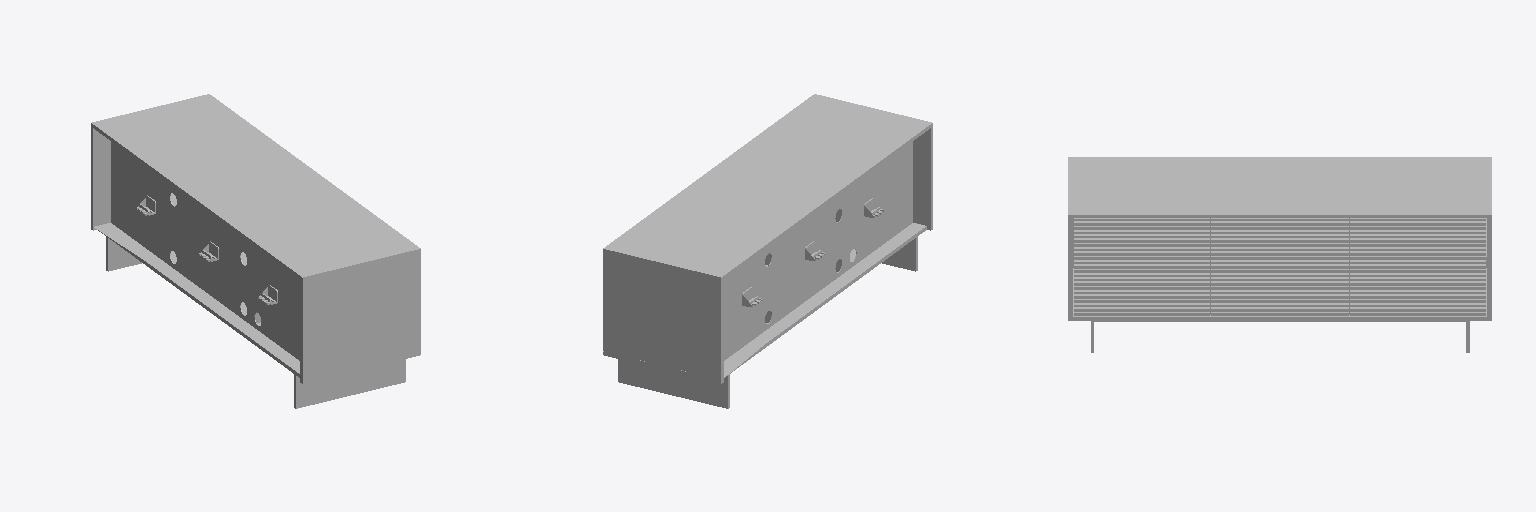
File: tvstand.obj
3 renders of one model, left to right at view 1: azimuth 30°, elevation 25°; view 2: azimuth 150°, elevation 25°; view 3: azimuth 270°, elevation 25°, orthographic.
Visible parts, largest first — view 1: Mesh47 top_shelf1 TV_stand1 Model, Mesh49 back_wall1 TV_stand1 Model, Mesh61 side_wall_2_2 TV_stand1 Model, Mesh48 top_shelf_1_1 TV_stand1 Model, Mesh59 left_leg1 leg_left1 TV_stand1 Model, Mesh52 side_wall_2_1 TV_stand1 Model, Mesh60 left_leg2 leg_left2 TV_stand1 Model; view 2: Mesh47 top_shelf1 TV_stand1 Model, Mesh49 back_wall1 TV_stand1 Model, Mesh52 side_wall_2_1 TV_stand1 Model, Mesh48 top_shelf_1_1 TV_stand1 Model, Mesh60 left_leg2 leg_left2 TV_stand1 Model, Mesh61 side_wall_2_2 TV_stand1 Model, Mesh59 left_leg1 leg_left1 TV_stand1 Model; view 3: Mesh47 top_shelf1 TV_stand1 Model, Mesh48 top_shelf_1_1 TV_stand1 Model, Mesh3 ajto_lec3 door_left_1_1 TV_stand1 Model, Mesh6 ajto_lec6 door_left_1_1 TV_stand1 Model, Mesh16 ajto_lec16 door_left_1_1 TV_stand1 Model, Mesh17 ajto_lec17 door_left_1_1 TV_stand1 Model, Mesh19 ajto_lec19 door_left_1_1 TV_stand1 Model, Mesh20 ajto_lec20 door_left_1_1 TV_stand1 Model, Mesh23 ajto_lec23 door_left_1_1 TV_stand1 Model, Mesh26 ajto_lec26 door_left1 TV_stand1 Model, Mesh29 ajto_lec29 door_left1 TV_stand1 Model, Mesh39 ajto_lec39 door_left1 TV_stand1 Model (+28 smaller).
Boxes of the visible parts, box(x1,y1,x2,y2) form: Mesh47 top_shelf1 TV_stand1 Model: box(91, 94, 420, 280); Mesh49 back_wall1 TV_stand1 Model: box(111, 142, 299, 360); Mesh61 side_wall_2_2 TV_stand1 Model: box(300, 253, 420, 379); Mesh48 top_shelf_1_1 TV_stand1 Model: box(91, 223, 420, 383); Mesh59 left_leg1 leg_left1 TV_stand1 Model: box(294, 359, 405, 408); Mesh52 side_wall_2_1 TV_stand1 Model: box(91, 127, 110, 226); Mesh60 left_leg2 leg_left2 TV_stand1 Model: box(106, 237, 141, 271); Mesh47 top_shelf1 TV_stand1 Model: box(603, 94, 932, 280); Mesh49 back_wall1 TV_stand1 Model: box(724, 142, 912, 360); Mesh52 side_wall_2_1 TV_stand1 Model: box(603, 253, 723, 379); Mesh48 top_shelf_1_1 TV_stand1 Model: box(603, 223, 932, 383); Mesh60 left_leg2 leg_left2 TV_stand1 Model: box(618, 359, 729, 408); Mesh61 side_wall_2_2 TV_stand1 Model: box(913, 127, 932, 226); Mesh59 left_leg1 leg_left1 TV_stand1 Model: box(882, 237, 917, 271); Mesh47 top_shelf1 TV_stand1 Model: box(1068, 157, 1491, 217); Mesh48 top_shelf_1_1 TV_stand1 Model: box(1068, 268, 1491, 320); Mesh3 ajto_lec3 door_left_1_1 TV_stand1 Model: box(1211, 281, 1348, 285); Mesh6 ajto_lec6 door_left_1_1 TV_stand1 Model: box(1211, 294, 1348, 298); Mesh16 ajto_lec16 door_left_1_1 TV_stand1 Model: box(1211, 238, 1348, 242); Mesh17 ajto_lec17 door_left_1_1 TV_stand1 Model: box(1211, 251, 1348, 255); Mesh19 ajto_lec19 door_left_1_1 TV_stand1 Model: box(1211, 221, 1348, 225); Mesh20 ajto_lec20 door_left_1_1 TV_stand1 Model: box(1211, 264, 1348, 268); Mesh23 ajto_lec23 door_left_1_1 TV_stand1 Model: box(1211, 307, 1348, 311); Mesh26 ajto_lec26 door_left1 TV_stand1 Model: box(1074, 281, 1209, 285); Mesh29 ajto_lec29 door_left1 TV_stand1 Model: box(1074, 294, 1209, 298); Mesh39 ajto_lec39 door_left1 TV_stand1 Model: box(1074, 238, 1209, 242).
Size of the model in its own units: 58.2 by 66 by 180.